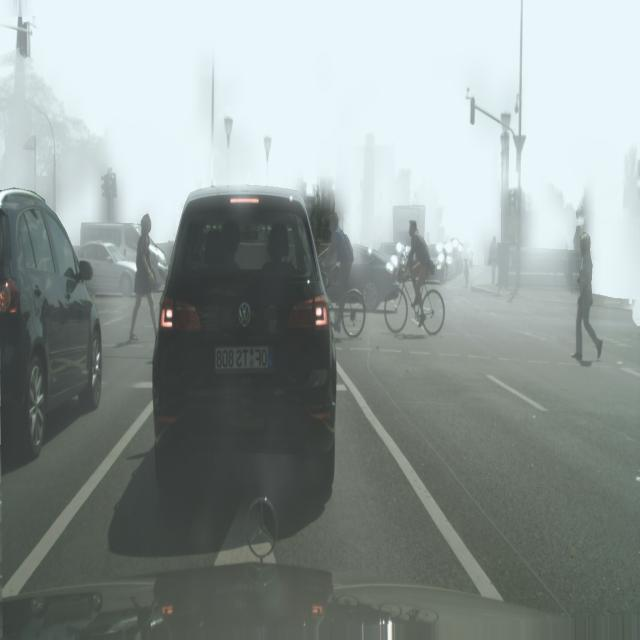bus: (571, 232, 603, 361), (128, 211, 158, 346), (321, 213, 354, 332), (488, 235, 498, 284)
person: (152, 183, 338, 486), (0, 188, 103, 462), (320, 244, 399, 311), (77, 239, 138, 297)
truck: (384, 216, 445, 338), (323, 266, 366, 338)
